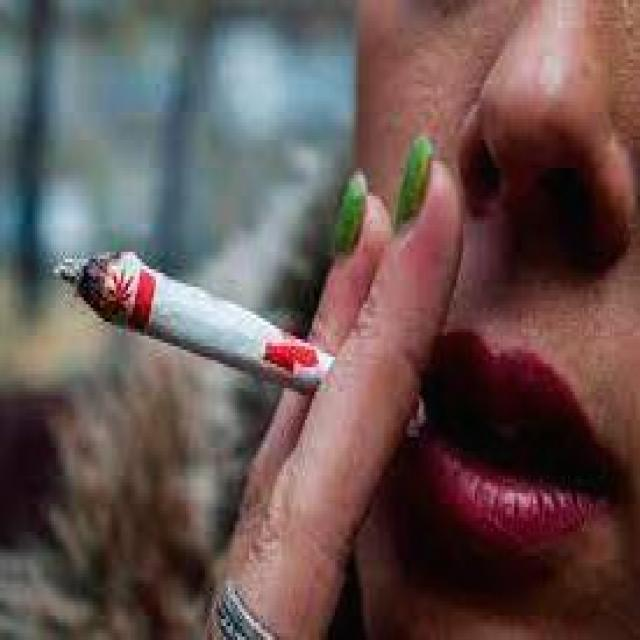smoke: (51, 245, 319, 392)
